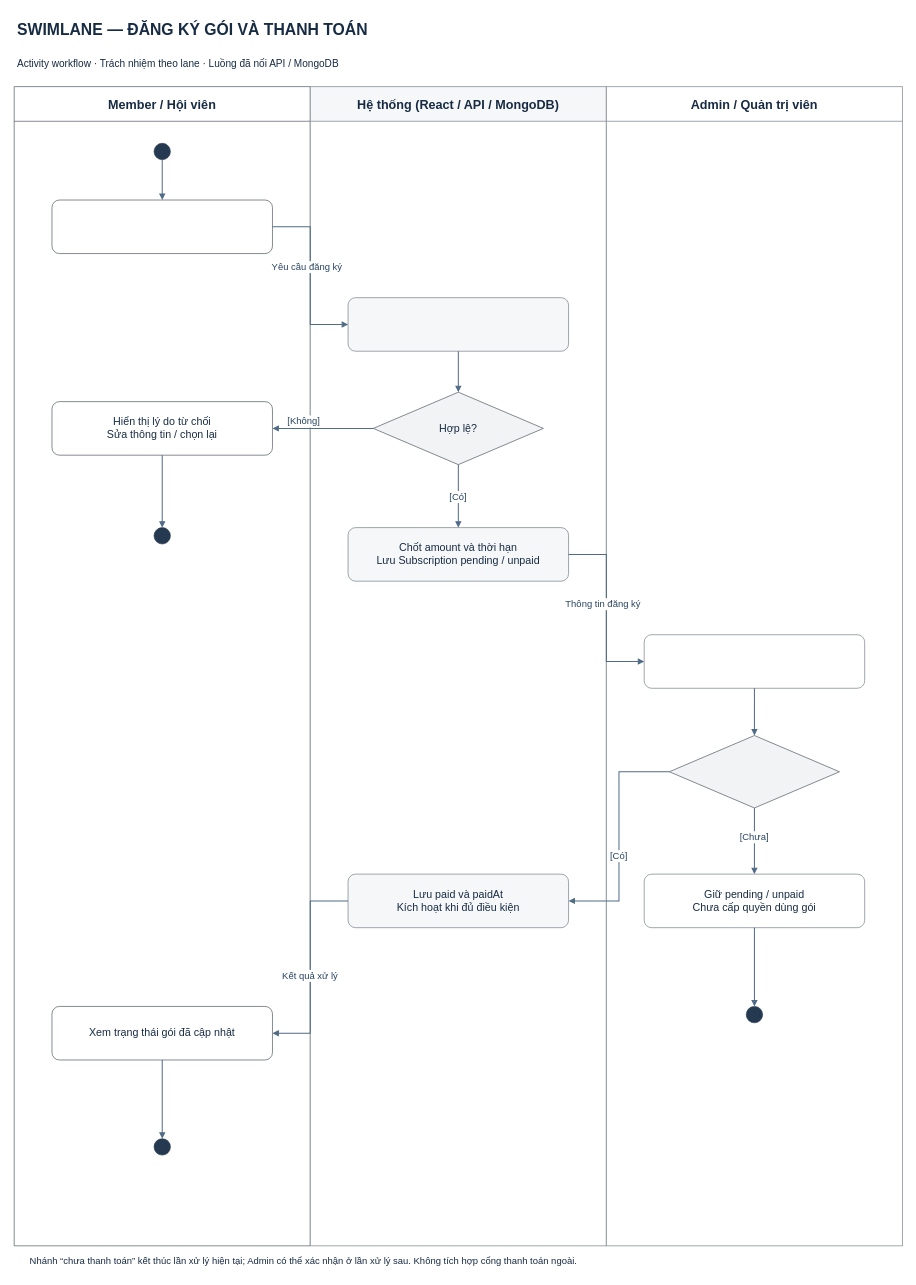
The diagram is 916 pixels wide and 1285 high, and some of its shapes have lost their labels. Here are the shapes that lost their labels. From the top down, the centre of each, then its label:
At point (161, 226): "Chọn gói tập Gửi yêu cầu đăng ký".
At point (458, 324): "Kiểm tra tài khoản, gói hoạt động và thông tin đăng ký".
At point (754, 661): "Đối chiếu đăng ký Xác nhận đã thu tiền".
At point (754, 771): "Đã thanh toán?".
